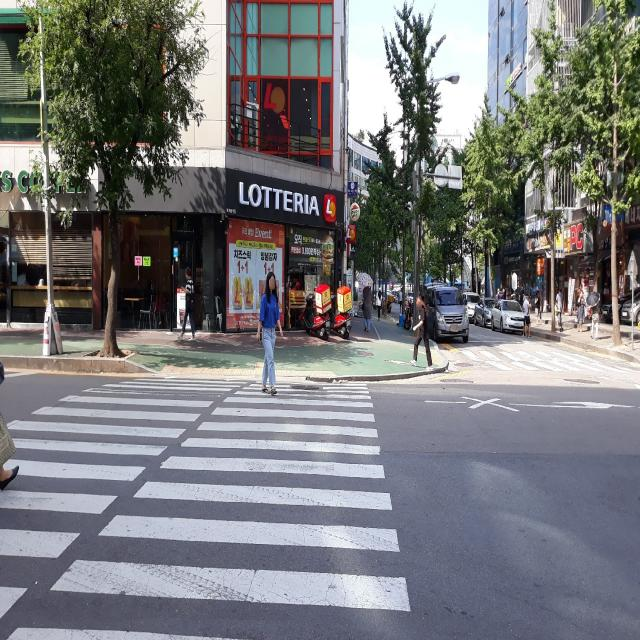횡단보도: (0, 374, 412, 640), (449, 349, 619, 366)
